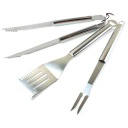fork: (15, 22, 124, 99)
